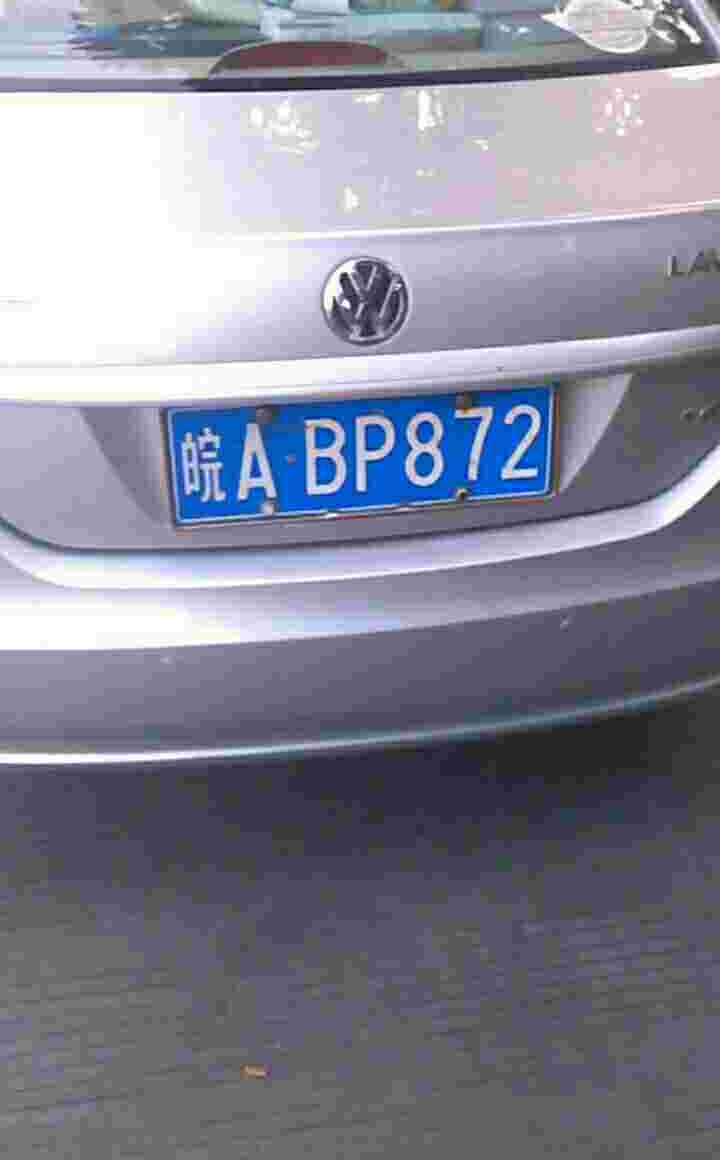license_plate: (170, 396, 559, 523)
